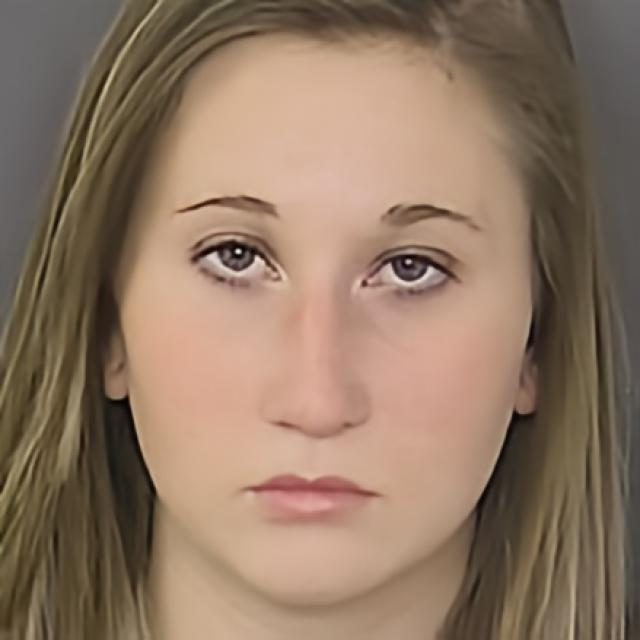sad: (118, 28, 525, 606)
